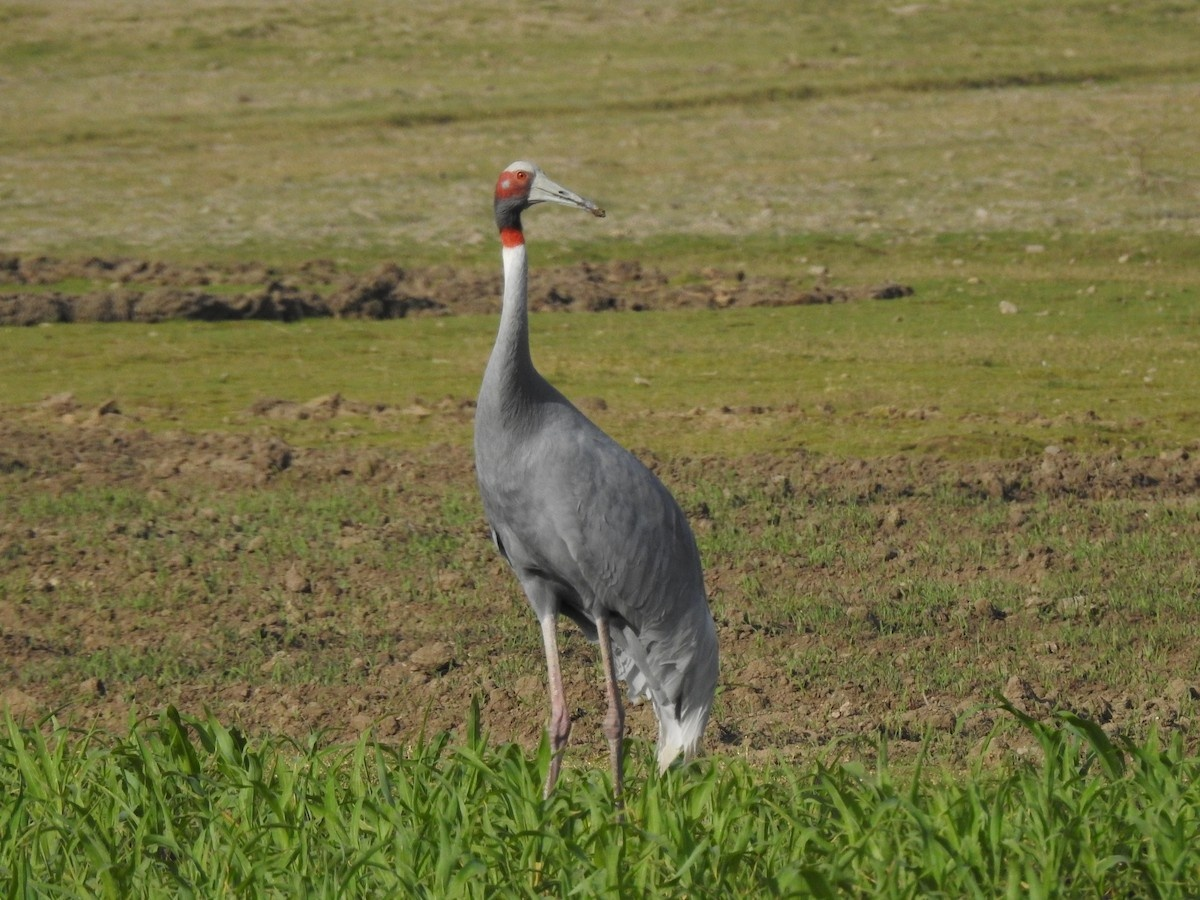crane: (468, 152, 725, 781)
